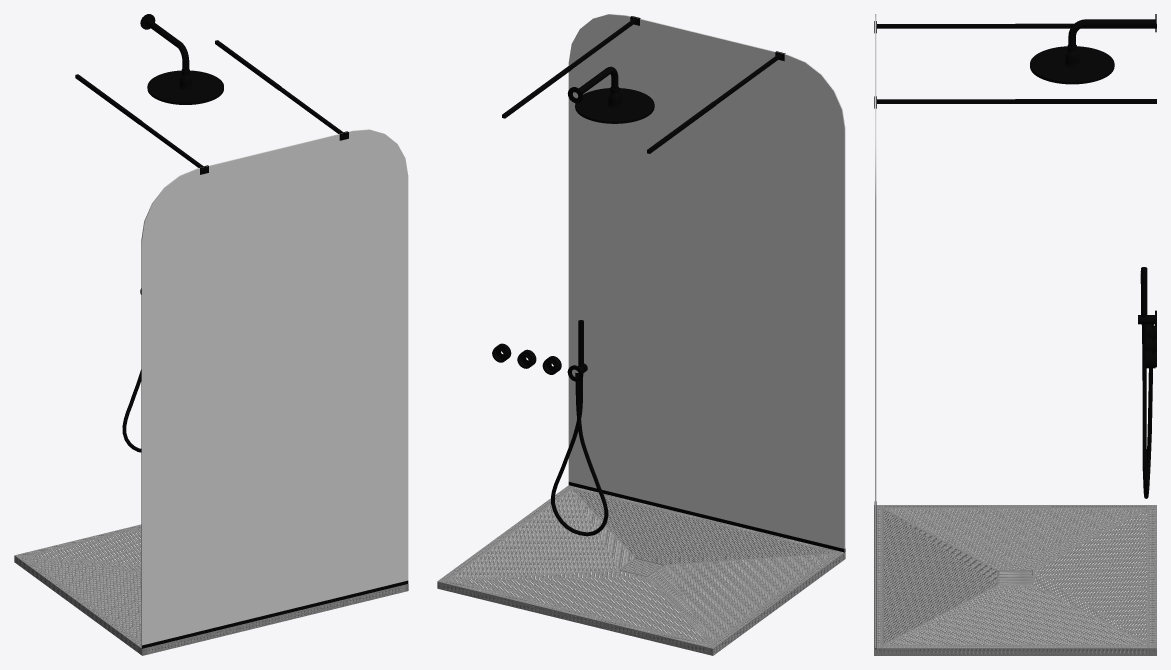
The model's file is 62badb20-049a-4262-b8a4-7f5a04315cbd.glb.
3 renders of one model, left to right at view 1: azimuth 30°, elevation 25°; view 2: azimuth 150°, elevation 25°; view 3: azimuth 270°, elevation 25°, orthographic. The views are drawn at different scales.
Visible parts, largest first — view 1: Object649, Object650, Object642, Cylinder003; view 2: Object649, Object650, Object642, Cylinder003; view 3: Object650, Object642, Cylinder003, Object649.
Boxes of the visible parts, x1,y1,x2,y2 form: Object649: (141,129,408,647); Object650: (14,524,408,655); Object642: (122,14,223,452); Cylinder003: (75,40,408,648); Object649: (568,14,845,551); Object650: (437,485,845,655); Object642: (492,66,654,536); Cylinder003: (502,16,845,552); Object650: (874,505,1156,655); Object642: (1030,14,1156,498); Cylinder003: (874,21,1156,648); Object649: (875,14,876,647).
Bounding box in the file's own units: 1.21 × 2.23 × 1.
Materials: 3 (1 with a texture image).
